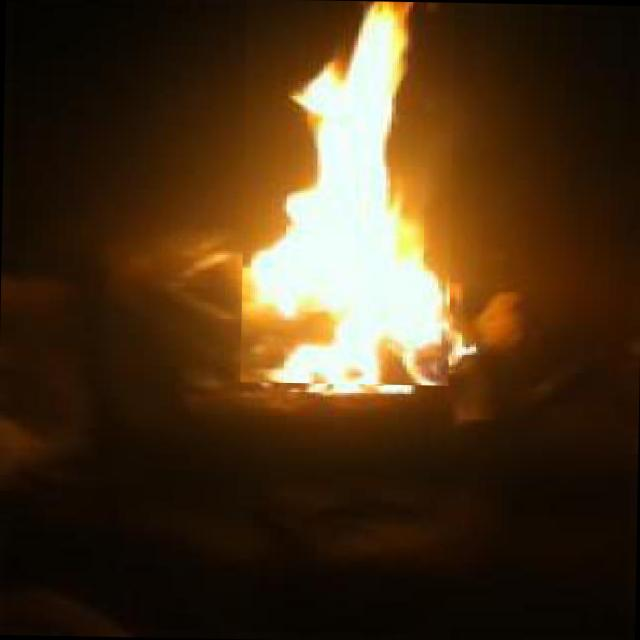fire: (239, 0, 454, 385)
